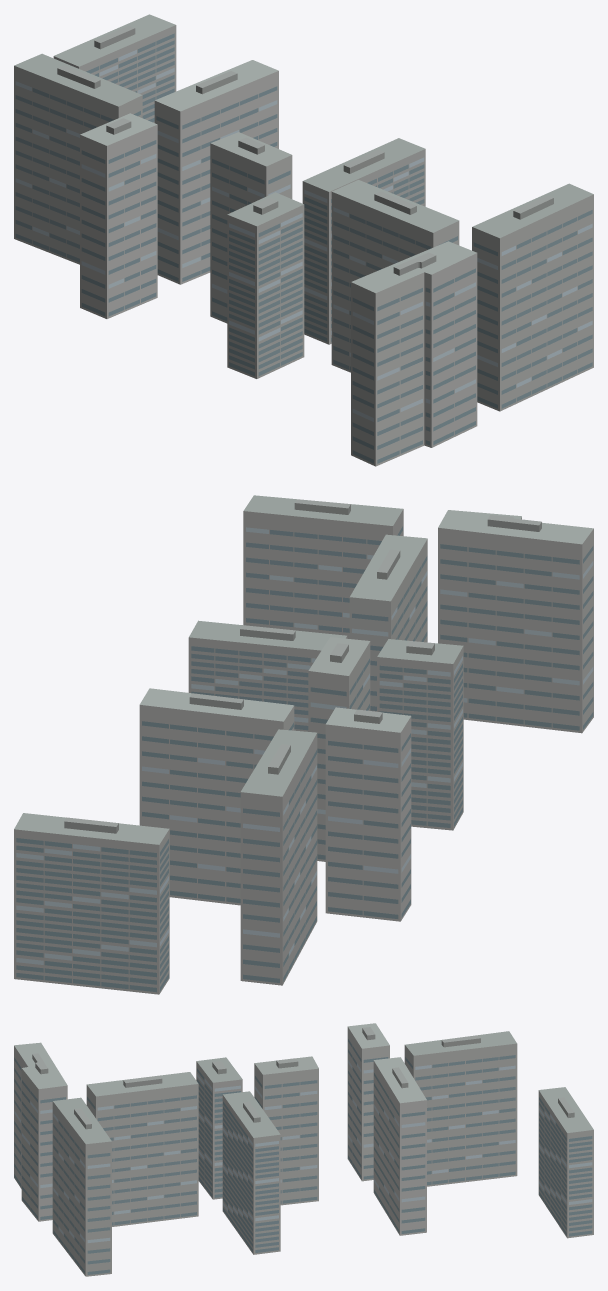
The model's file is apt-a15283711.glb.
3 views of the same model, one above another, from view 1: azimuth 30°, elevation 25°; view 2: azimuth 150°, elevation 25°; view 3: azimuth 270°, elevation 25° (orthographic). The views are drawn at different scales.
Visible parts, largest first — view 1: apt-a15283711; view 2: apt-a15283711; view 3: apt-a15283711.
Part boxes in pixels (x1,y1,x2,y2): apt-a15283711: (14,14,593,466); apt-a15283711: (14,495,593,994); apt-a15283711: (14,1023,593,1276).
Size of the model in its own units: 132 by 70 by 268.
